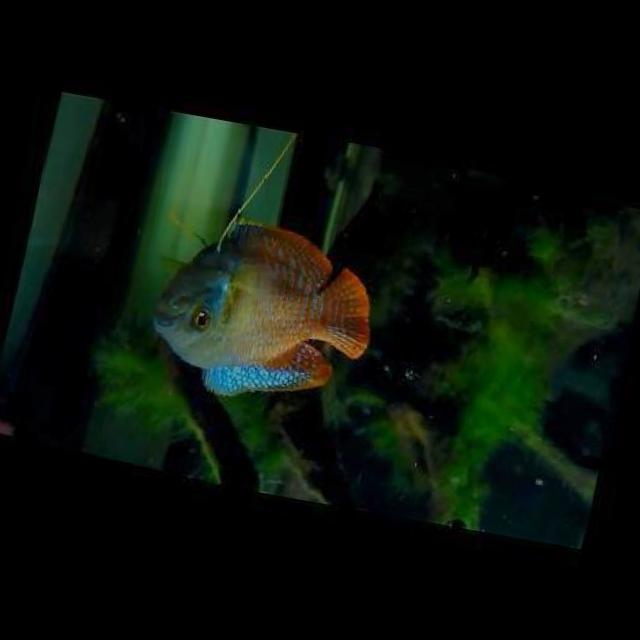Gourami: (137, 200, 390, 423)
